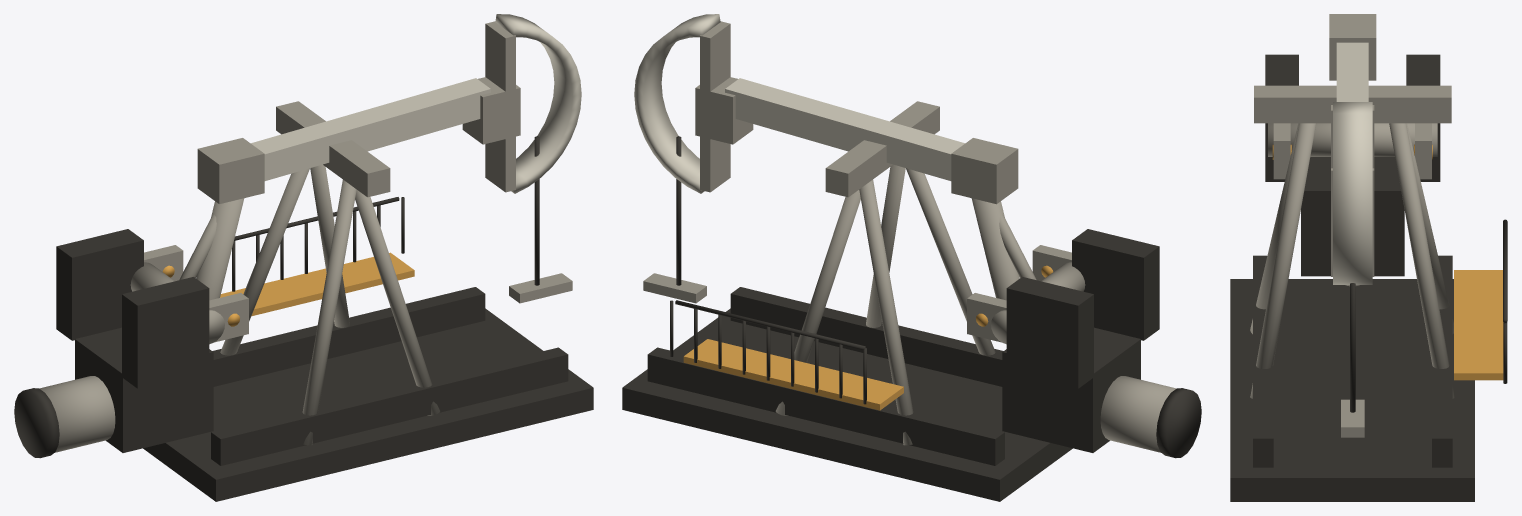
The model's file is pumpjack.obj.
The picture shows the model from 3 angles, left to right: view 1: azimuth 30°, elevation 25°; view 2: azimuth 150°, elevation 25°; view 3: azimuth 270°, elevation 25°; orthographic projection. The views are drawn at different scales.
Visible parts, largest first — view 1: pumpjack__DarkSteel, pumpjack__Steel, pumpjack__LightSteel, pumpjack__Amber; view 2: pumpjack__DarkSteel, pumpjack__Steel, pumpjack__LightSteel, pumpjack__Amber; view 3: pumpjack__DarkSteel, pumpjack__Steel, pumpjack__LightSteel, pumpjack__Amber.
Boxes of the visible parts, x1=… form: pumpjack__DarkSteel: x1=14, y1=136, x2=593, y2=501; pumpjack__Steel: x1=39, y1=21, x2=572, y2=452; pumpjack__LightSteel: x1=251, y1=14, x2=581, y2=193; pumpjack__Amber: x1=162, y1=252, x2=414, y2=326; pumpjack__DarkSteel: x1=622, y1=136, x2=1201, y2=501; pumpjack__Steel: x1=643, y1=21, x2=1176, y2=452; pumpjack__LightSteel: x1=634, y1=14, x2=964, y2=193; pumpjack__Amber: x1=683, y1=265, x2=1053, y2=410; pumpjack__DarkSteel: x1=1230, y1=54, x2=1507, y2=501; pumpjack__Steel: x1=1250, y1=14, x2=1455, y2=437; pumpjack__LightSteel: x1=1333, y1=42, x2=1372, y2=284; pumpjack__Amber: x1=1272, y1=144, x2=1503, y2=380.
Bounding box in the file's own units: 7.16 × 4.49 × 2.94.
